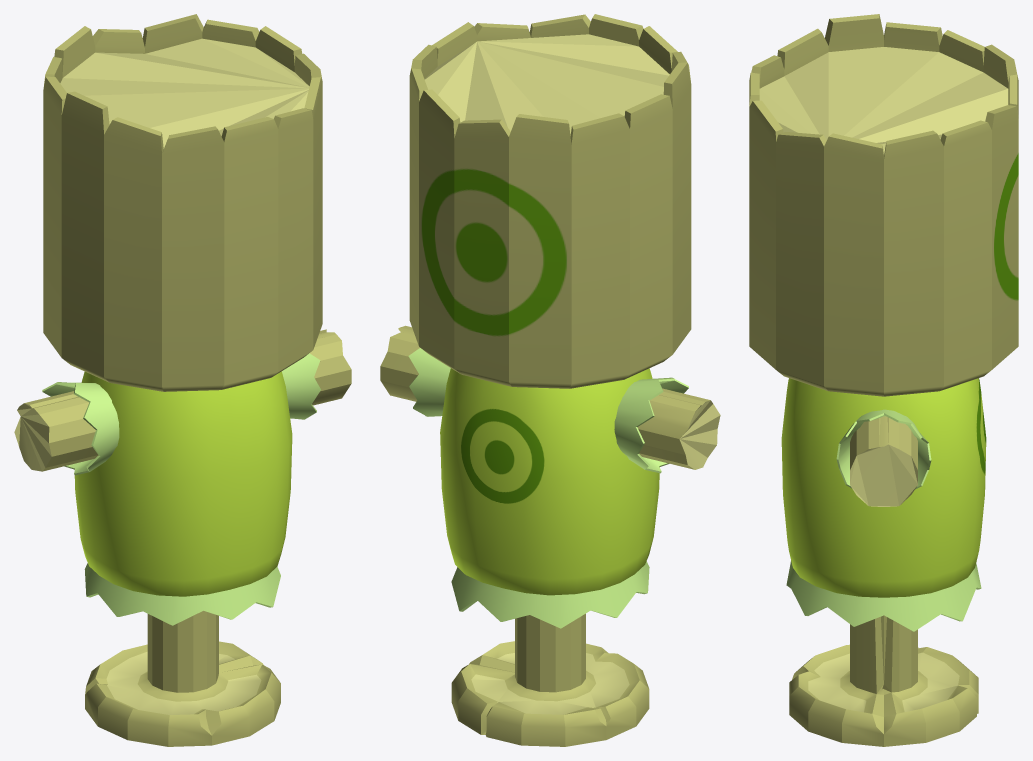
Rendered from SM_Puppet_Green.fbx.
3 renders of one model, left to right at view 1: azimuth 30°, elevation 25°; view 2: azimuth 150°, elevation 25°; view 3: azimuth 270°, elevation 25°, orthographic. The views are drawn at different scales.
Parts seen in each view (by area): view 1: SM_Puppet_Green; view 2: SM_Puppet_Green; view 3: SM_Puppet_Green.
Boxes of the visible parts, x1,y1,x2,y2 form: SM_Puppet_Green: [14, 14, 351, 746]; SM_Puppet_Green: [380, 14, 720, 746]; SM_Puppet_Green: [749, 14, 1018, 746].
Size of the model in its own units: 231 by 470 by 181.
